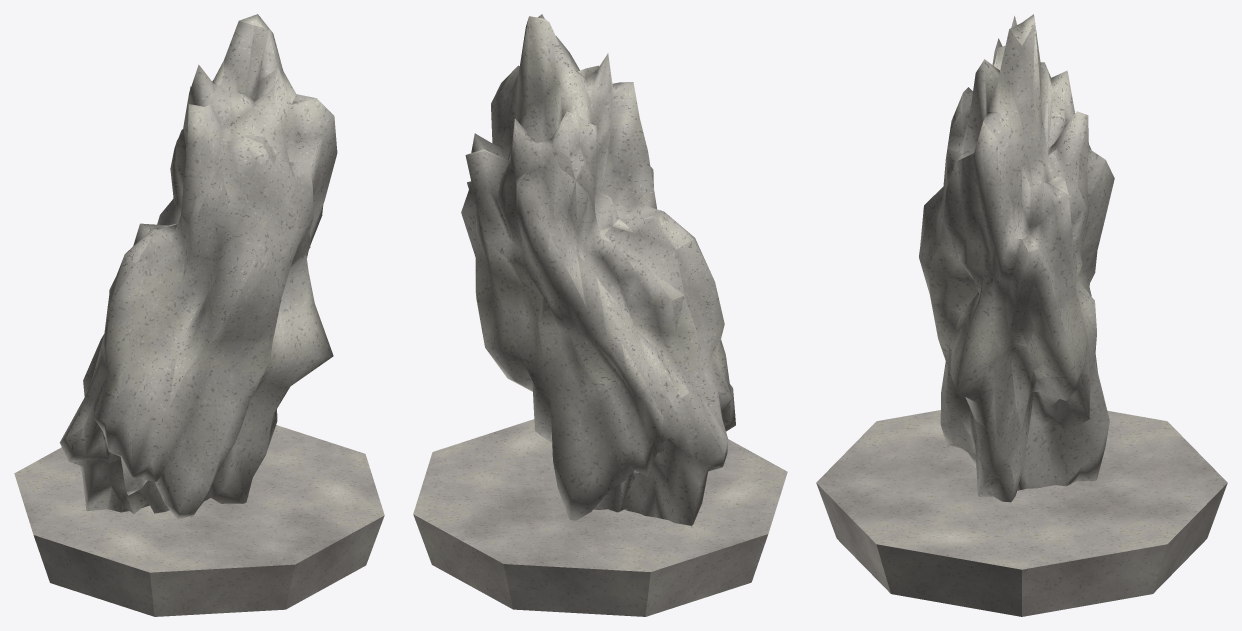
Rendered from scholar_rock.glb.
3 renders of one model, left to right at view 1: azimuth 30°, elevation 25°; view 2: azimuth 150°, elevation 25°; view 3: azimuth 270°, elevation 25°, orthographic. The views are drawn at different scales.
Visible parts, largest first — view 1: ScholarRock, RockPlinth; view 2: ScholarRock, RockPlinth; view 3: ScholarRock, RockPlinth.
Boxes of the visible parts, left/top/right/bottom form: ScholarRock: left=59, top=14, right=337, bottom=520; RockPlinth: left=14, top=425, right=384, bottom=616; ScholarRock: left=461, top=14, right=735, bottom=525; RockPlinth: left=413, top=419, right=787, bottom=616; ScholarRock: left=919, top=14, right=1114, bottom=502; RockPlinth: left=816, top=410, right=1227, bottom=616.
Size of what is drawn, in the model's own units: 2 by 2.95 by 2.
2 materials, 2 textured.
